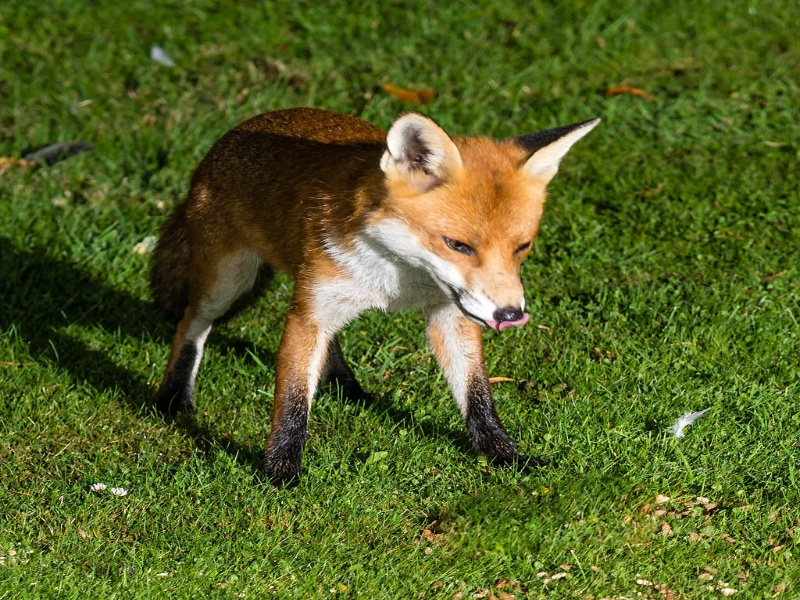fox: (143, 105, 609, 497)
